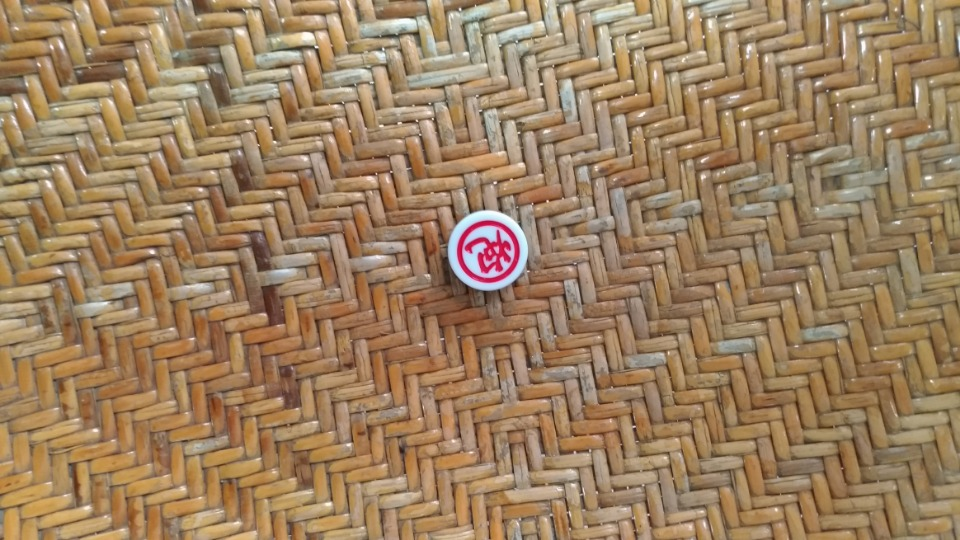r-cannon: (436, 206, 536, 304)
